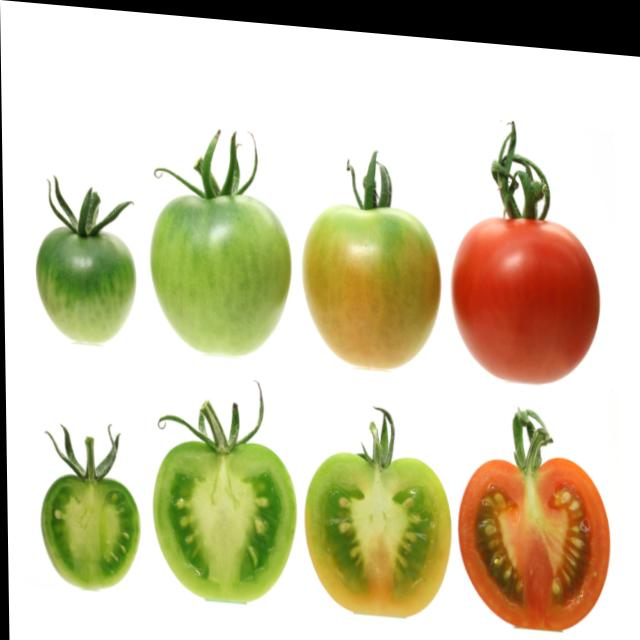kirmizi: (455, 186, 612, 398)
yesil: (38, 159, 449, 379)
